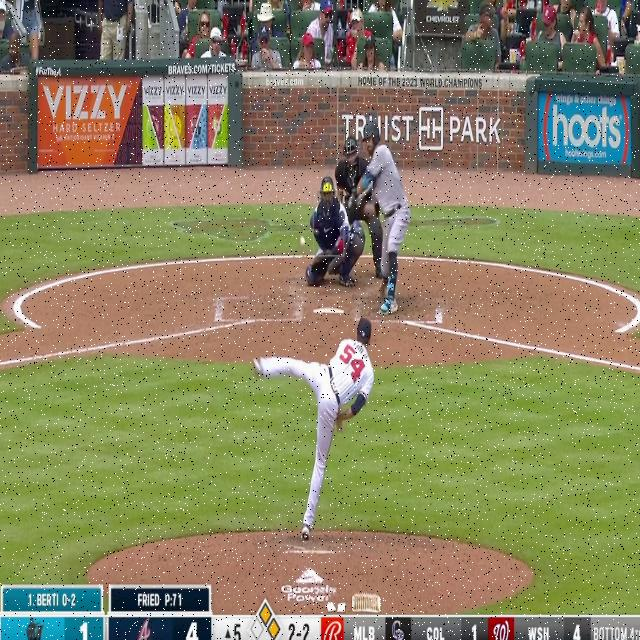baseball: (300, 236, 306, 247)
